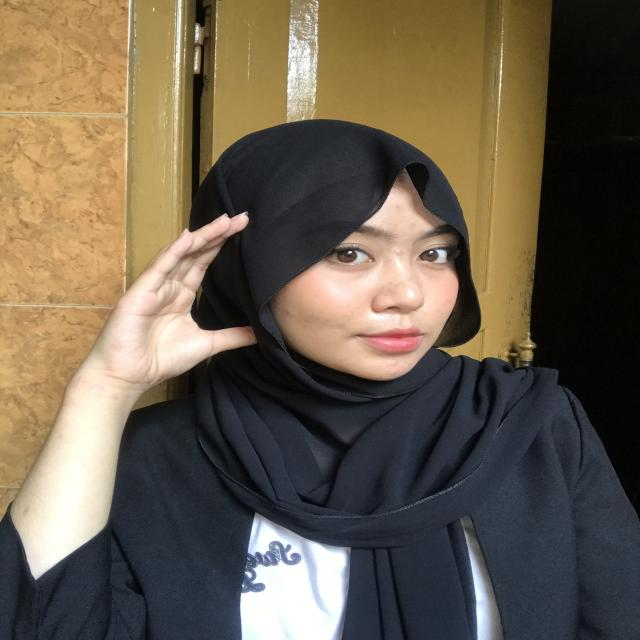mendengar: (96, 195, 276, 410)
